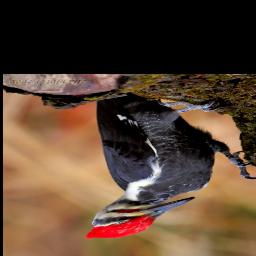Woodpecker: (85, 94, 256, 240)
